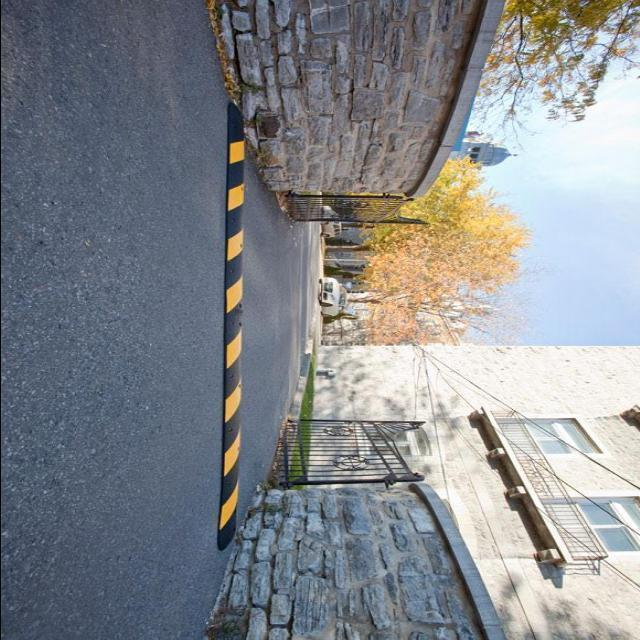speedbreaker: (206, 84, 252, 558)
